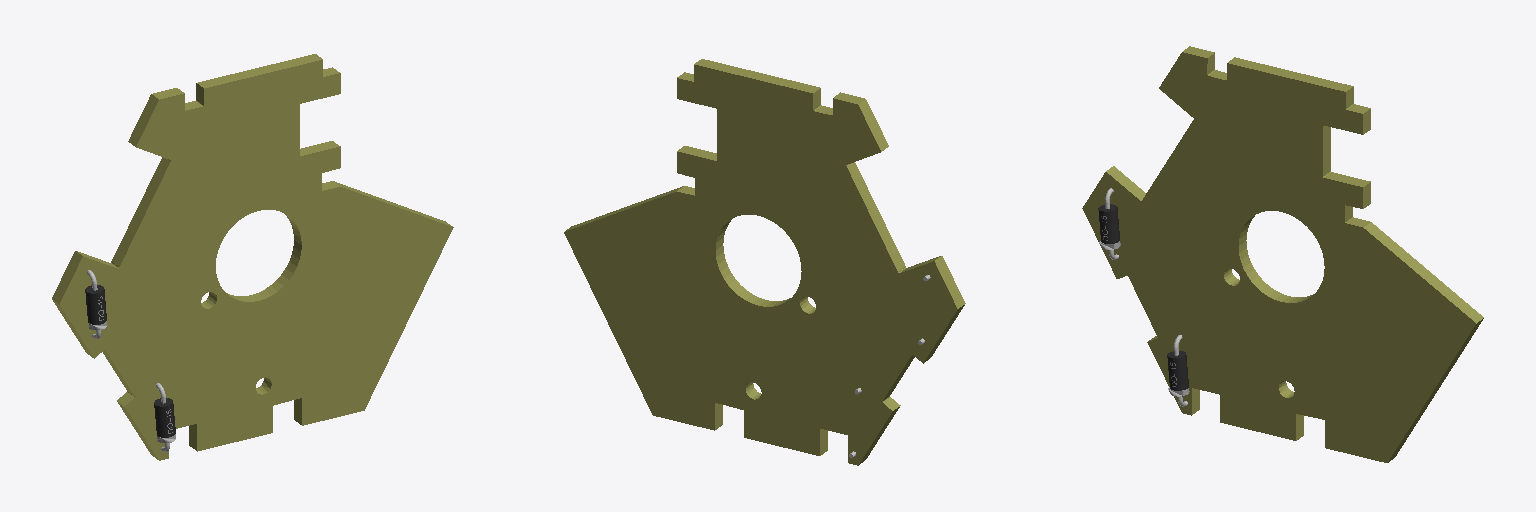
Rendered from OBJ_PCB_Lilypad_Fixed.obj.
3 views of the same model, side by side, from view 1: azimuth 30°, elevation 25°; view 2: azimuth 150°, elevation 25°; view 3: azimuth 330°, elevation 25° (orthographic).
Bounding box in the file's own units: 289 × 253 × 25.99.